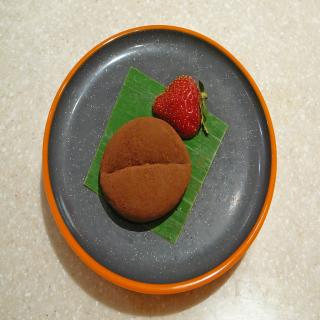Strawberry: (153, 74, 209, 137)
